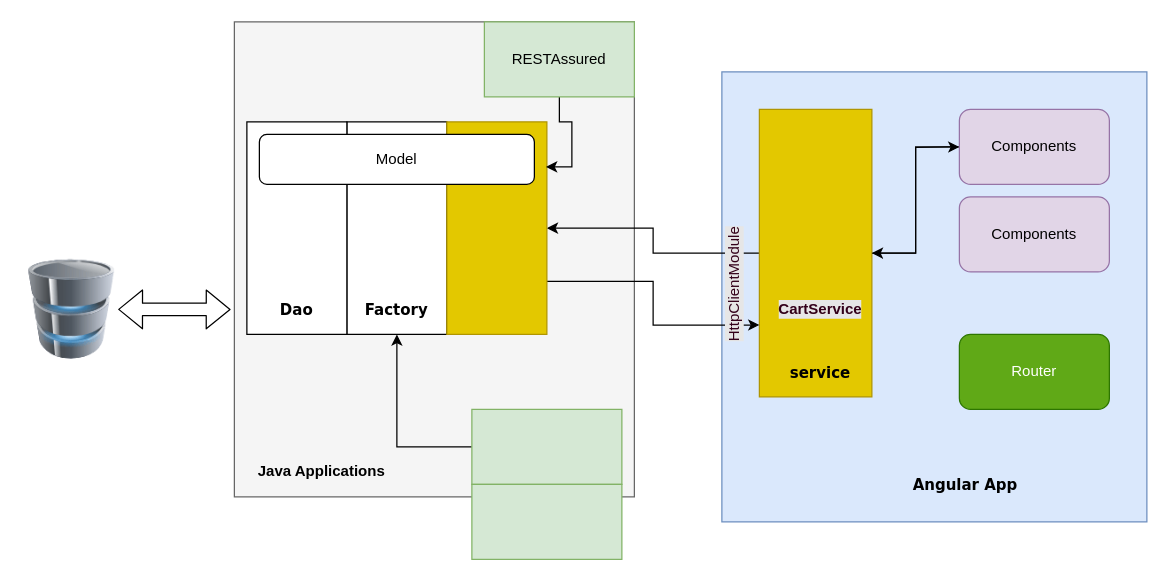
This 1169x581 diagram has some shape labels left out. The shapes that lost their labels are listed below. From the top down, each one's centre as x and y in pixels, then its label:
At point (496, 227): "REST service".
At point (546, 446): "CLI Main".
At point (546, 521): "JUnit/JMockit".
